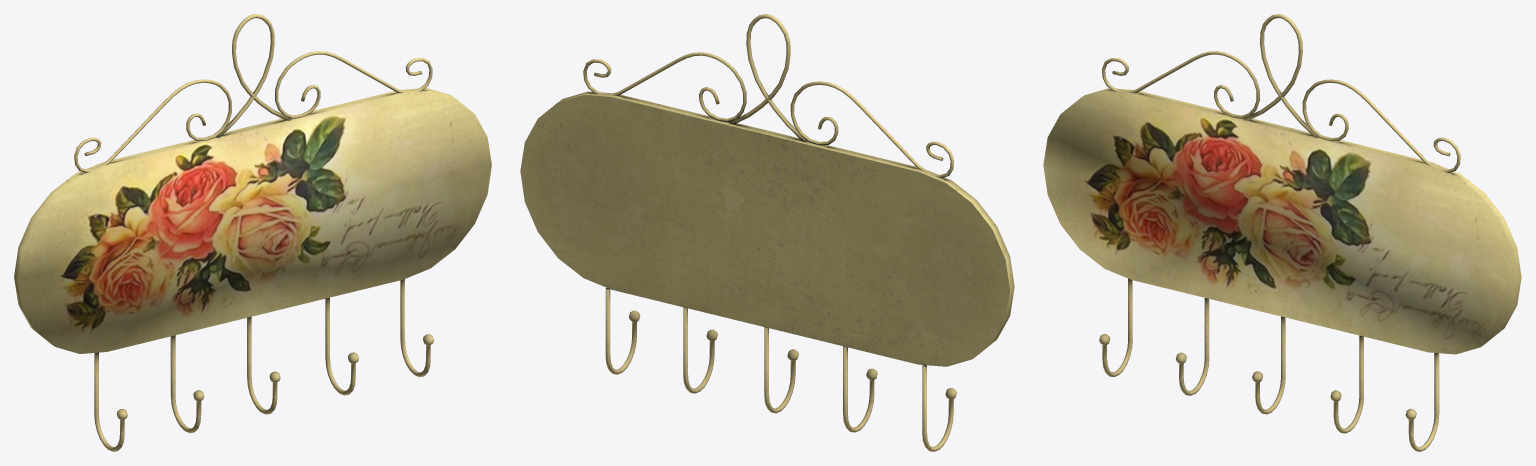
Rendered from keyHolder01.FBX.
3 views of the same model, side by side, from view 1: azimuth 30°, elevation 25°; view 2: azimuth 150°, elevation 25°; view 3: azimuth 330°, elevation 25° (orthographic). The views are drawn at different scales.
Visible parts, largest first — view 1: SM_KeyHolder01; view 2: SM_KeyHolder01; view 3: SM_KeyHolder01.
Part boxes in pixels (x1=…): SM_KeyHolder01: x1=14, y1=14, x2=491, y2=451; SM_KeyHolder01: x1=520, y1=14, x2=1014, y2=451; SM_KeyHolder01: x1=1043, y1=14, x2=1521, y2=451.
Bounding box in the file's own units: 35.67 × 28.12 × 3.88.
1 material, 1 textured.
